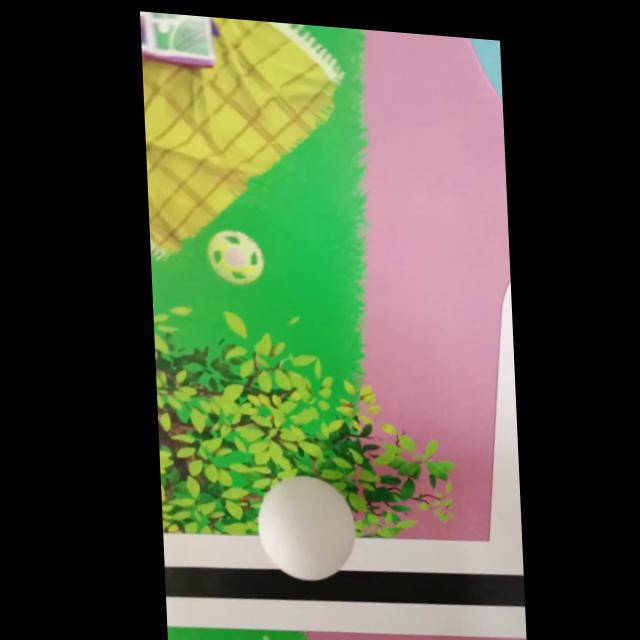white ball: (255, 471, 358, 586)
